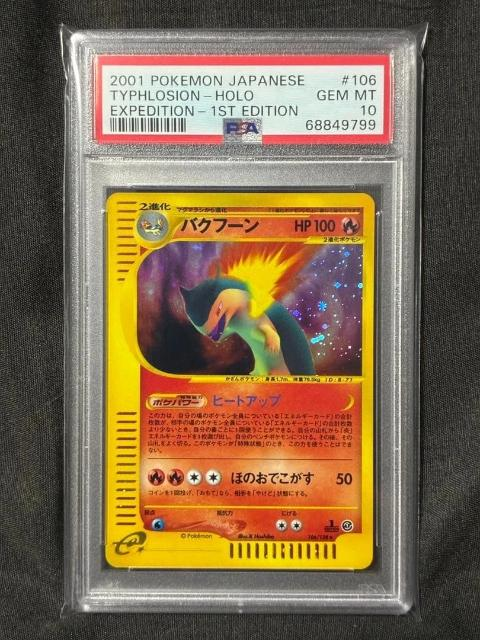Card: (102, 189, 378, 573)
Name: (175, 214, 263, 237)
